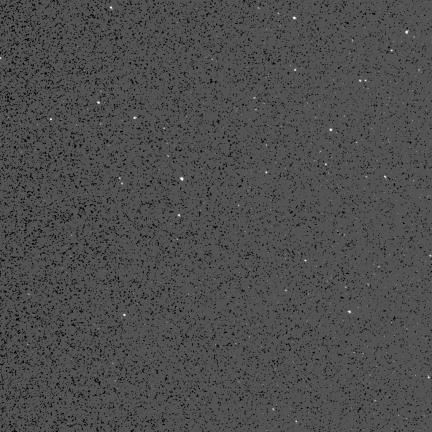blob: (405, 30, 409, 35), (180, 177, 184, 181), (348, 311, 352, 314), (330, 128, 333, 132), (97, 102, 101, 105), (123, 314, 126, 317), (293, 17, 296, 19)
